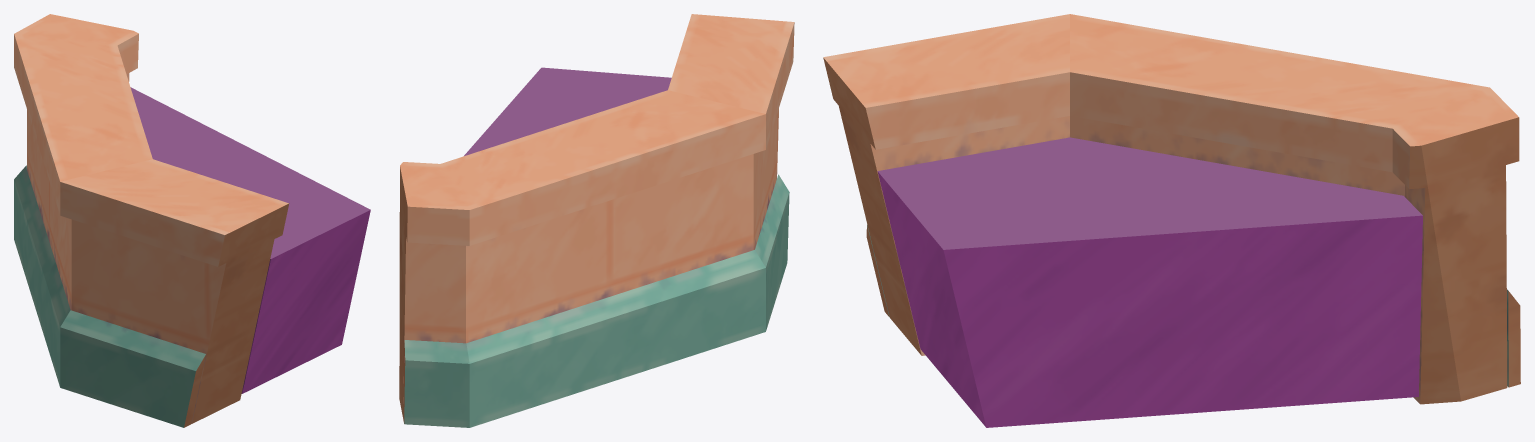
File: vat_plum_s02.fbx
3 views of the same model, side by side, from view 1: azimuth 30°, elevation 25°; view 2: azimuth 150°, elevation 25°; view 3: azimuth 270°, elevation 25° (orthographic). The views are drawn at different scales.
Parts seen in each view (by area): view 1: vat_plum_s02; view 2: vat_plum_s02; view 3: vat_plum_s02.
Boxes of the visible parts, x1,y1,x2,y2 form: vat_plum_s02: (14, 14, 370, 427); vat_plum_s02: (399, 14, 794, 427); vat_plum_s02: (823, 14, 1520, 427).
Bounding box in the file's own units: 2.26 × 1.7 × 4.05.
